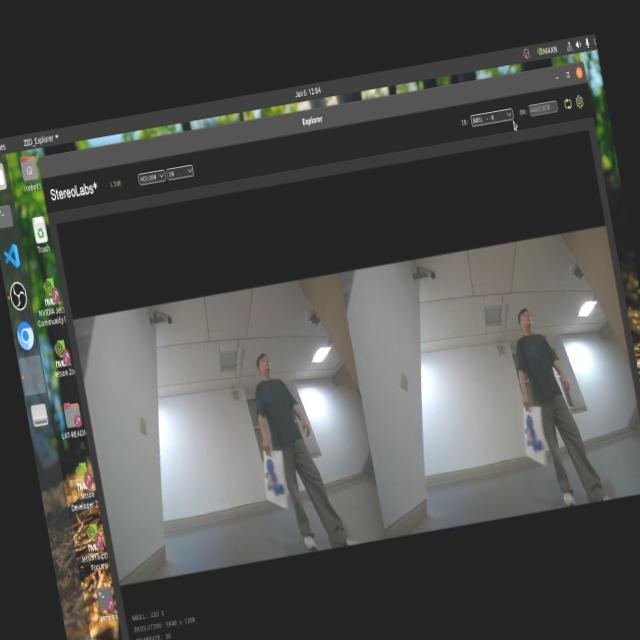blue: (255, 451, 297, 514), (514, 408, 542, 461)
